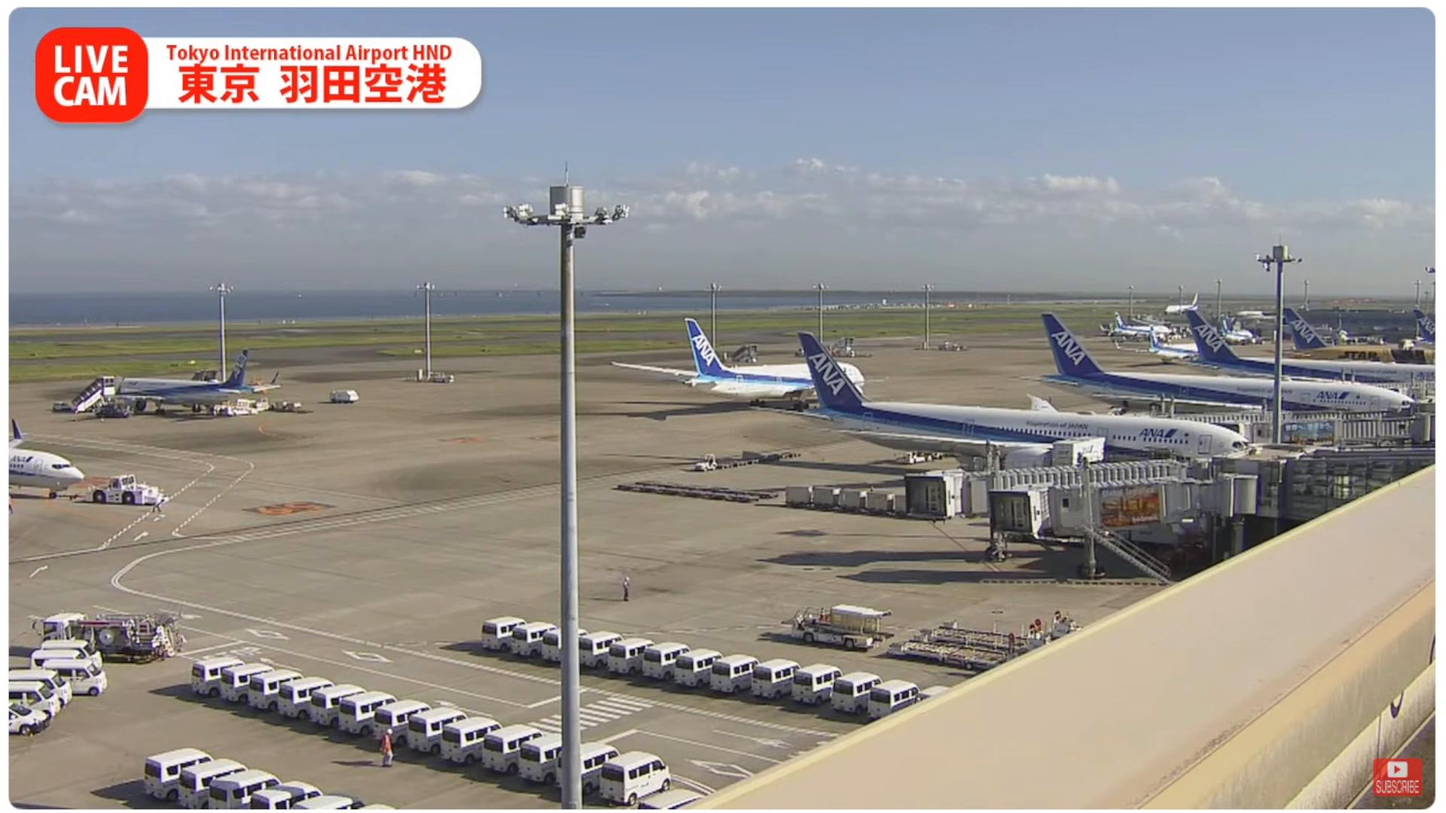APS: (84, 473, 170, 508)
Aerobridge: (904, 443, 1220, 528), (991, 451, 1256, 537)
Airplane: (10, 449, 85, 494)
JCPL: (918, 616, 1075, 656), (890, 639, 1018, 670)
Skyloader: (789, 603, 894, 653)
Window: (1290, 445, 1435, 519)
